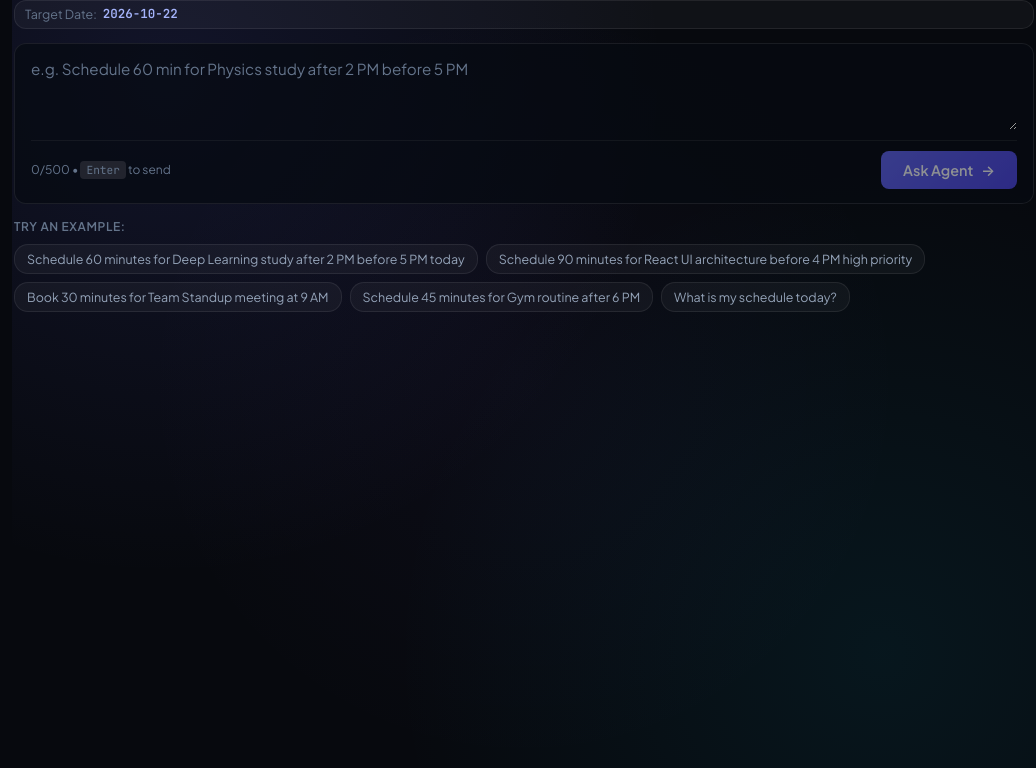
Test: PromptInterface Component › populates textarea when clicking a suggestion chip
Click the button "Schedule 45 minutes for Gym routine after 6 PM". click: x=501, y=297
box: [350,282,653,312]
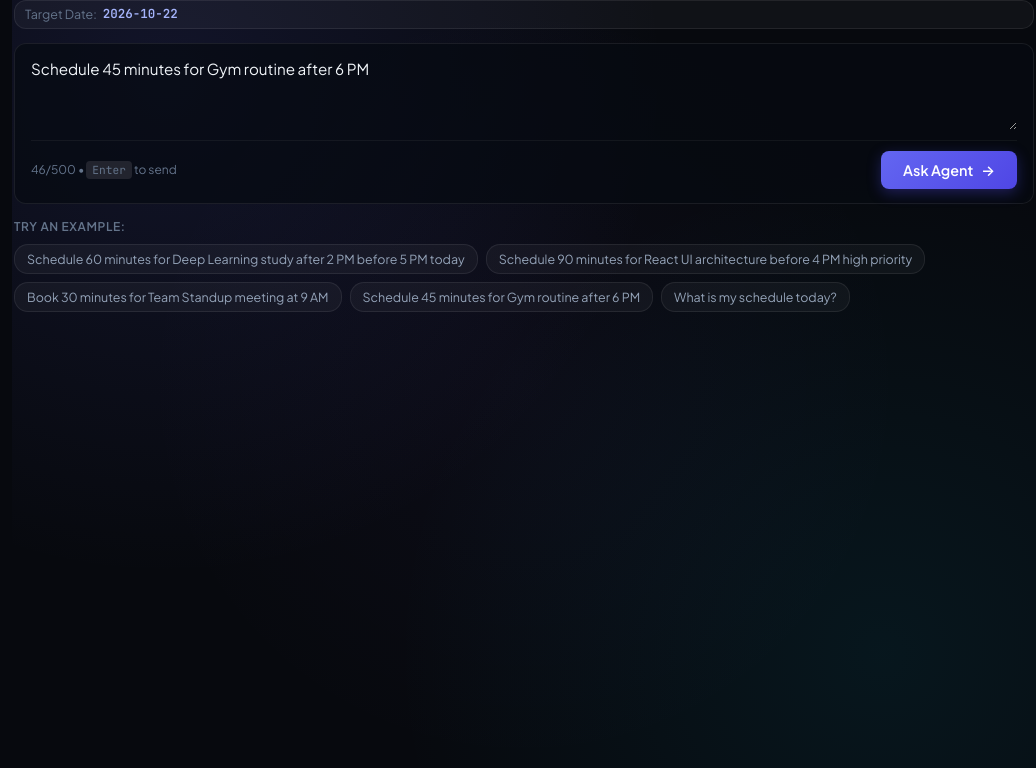
Check: the text box named "natural language scheduling prompt" holds "Schedule 45 minutes for Gym routine after 6 PM", box [31,58,1017,130]
